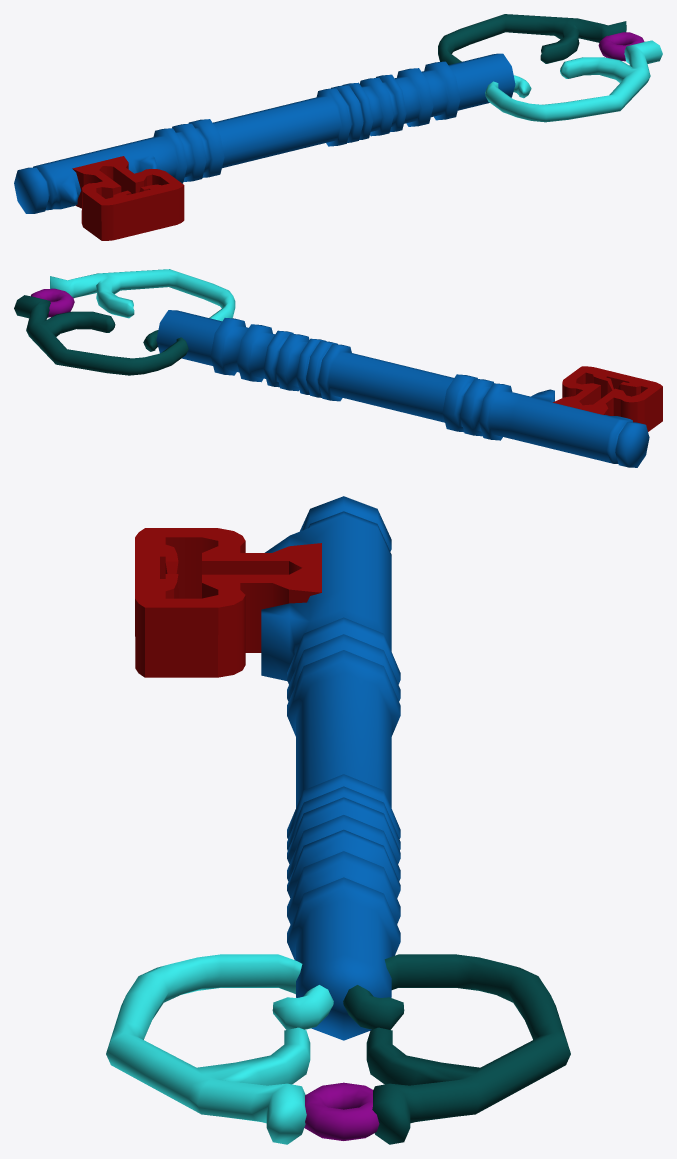
Rendered from llave.fbx.
3 views of the same model, one above another, from view 1: azimuth 30°, elevation 25°; view 2: azimuth 150°, elevation 25°; view 3: azimuth 270°, elevation 25° (orthographic). The views are drawn at different scales.
Parts seen in each view (by area): view 1: llavecompleta; view 2: llavecompleta; view 3: llavecompleta.
Boxes of the visible parts, left/top/right/bottom form: llavecompleta: left=14, top=14, right=662, bottom=240; llavecompleta: left=14, top=269, right=662, bottom=467; llavecompleta: left=106, top=496, right=570, bottom=1144.
Size of the model in its own units: 4.74 by 0.4137 by 1.57.
